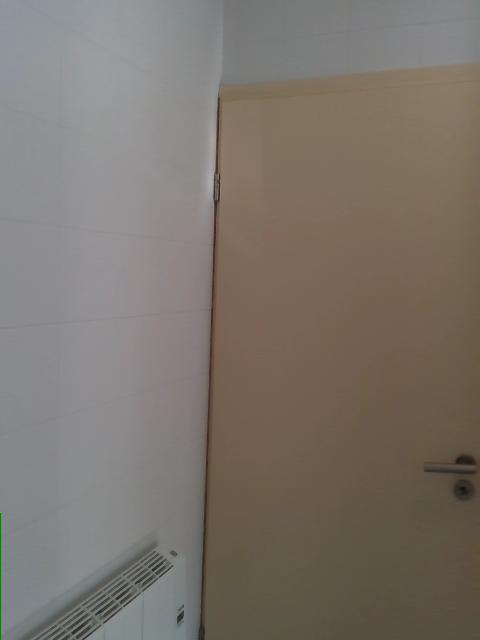door: (201, 61, 477, 638)
